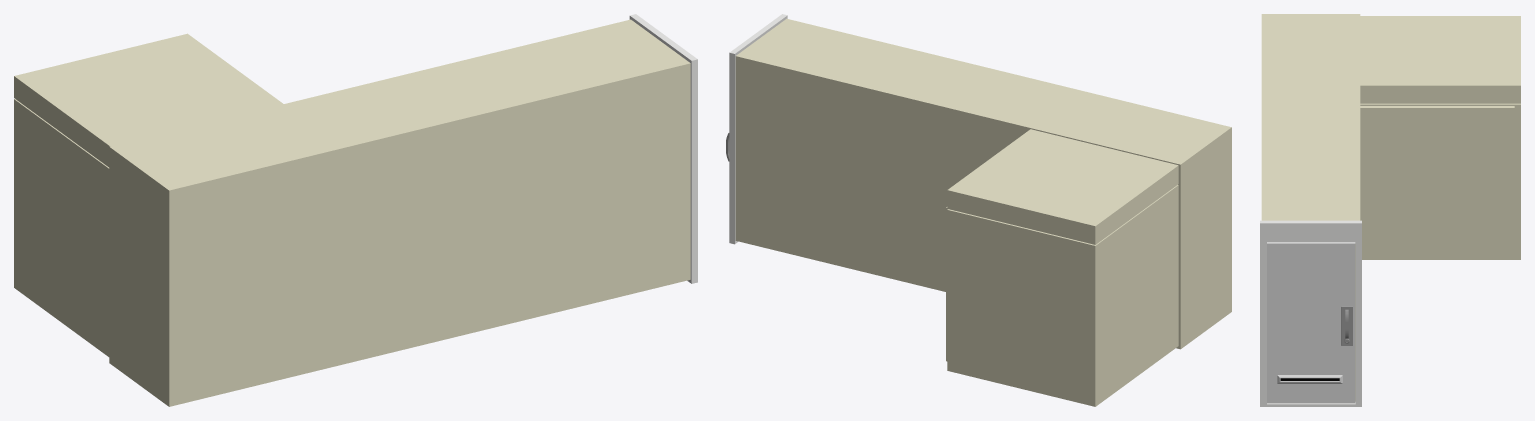
The model's file is Toilet.fbx.
The picture shows the model from 3 angles, left to right: view 1: azimuth 30°, elevation 25°; view 2: azimuth 150°, elevation 25°; view 3: azimuth 270°, elevation 25°; orthographic projection. The views are drawn at different scales.
Parts seen in each view (by area): view 1: pasted__BlackRoom1; view 2: pasted__BlackRoom1; view 3: pasted__BlackRoom1, polySurface106.
Part boxes in pixels (x1,y1,x2,y2): pasted__BlackRoom1: (14, 14, 697, 406); pasted__BlackRoom1: (729, 14, 1231, 406); pasted__BlackRoom1: (1260, 14, 1520, 406); polySurface106: (1267, 242, 1355, 403).
Size of the model in its own units: 935 by 369 by 476.
